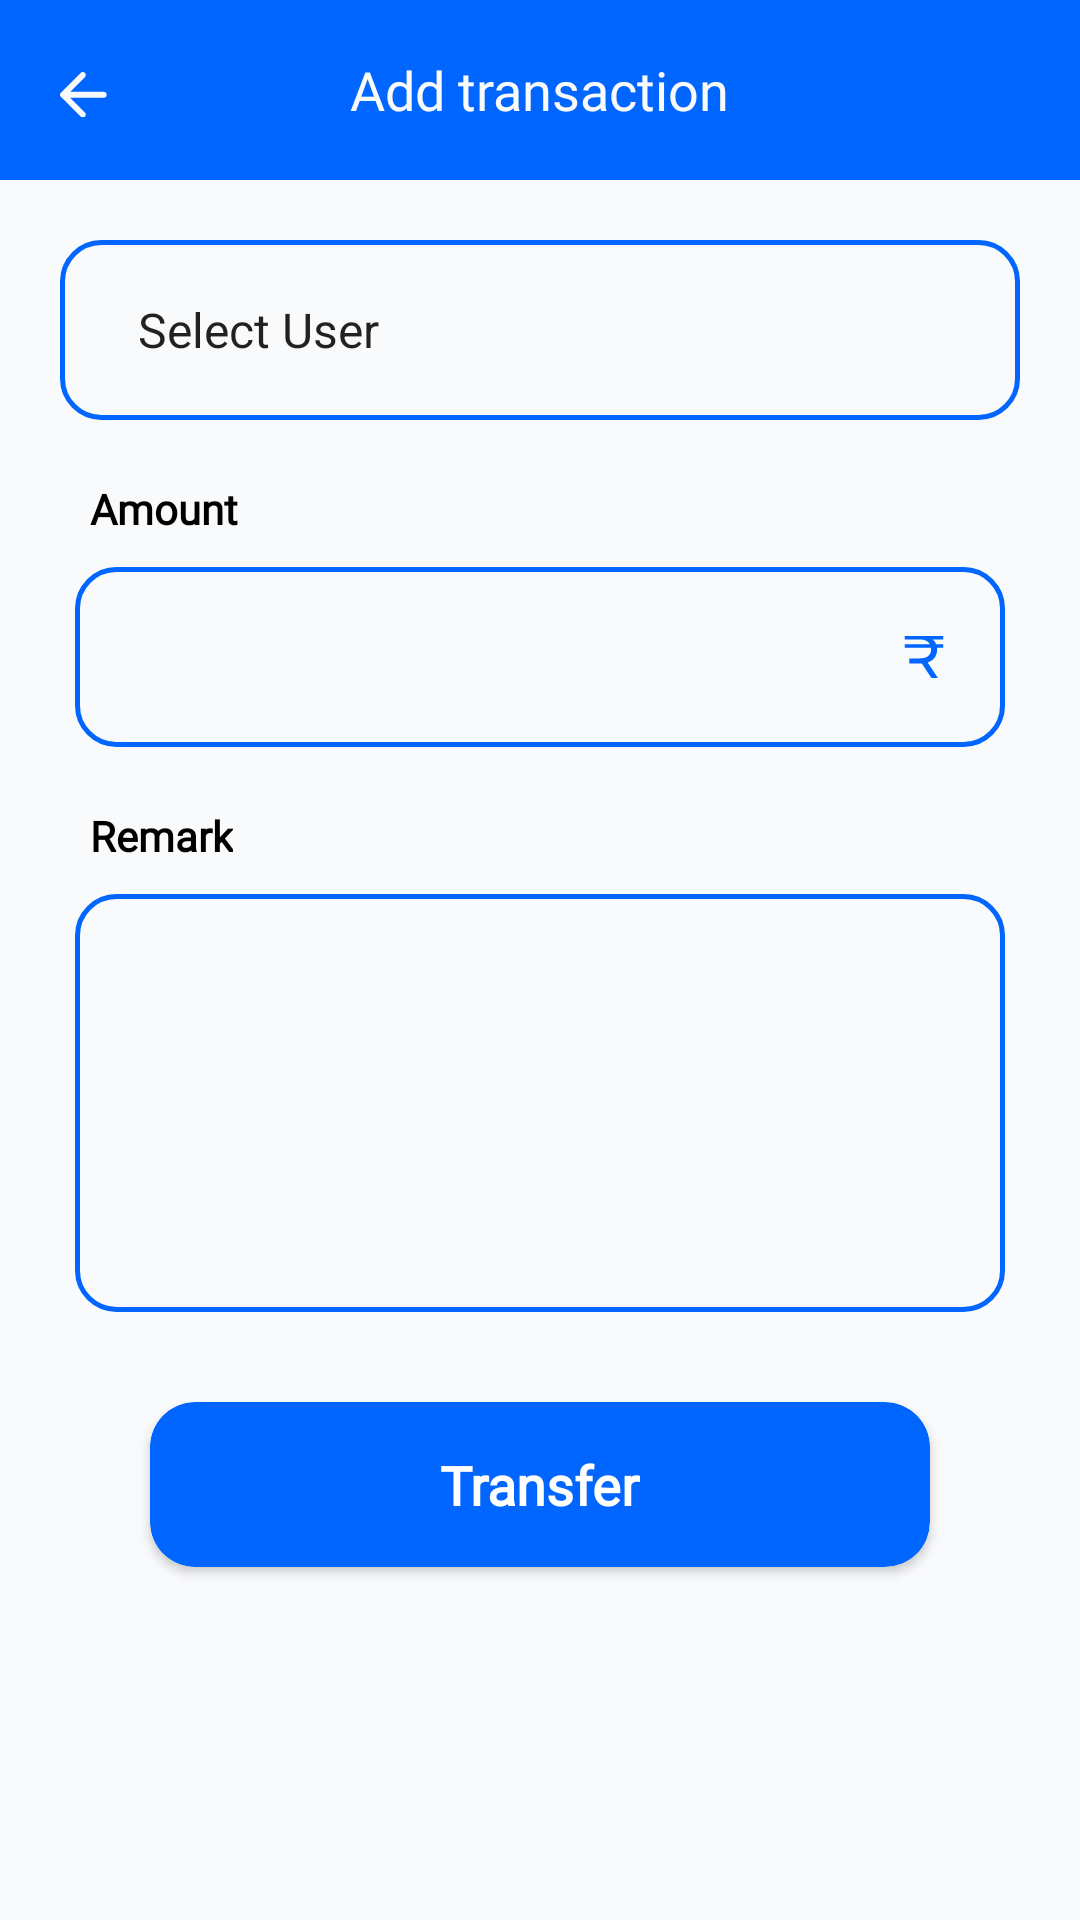

Icons on this 1080*1920 Android screen, each with the point to tap as point (x, y):
back: point (83, 94)
